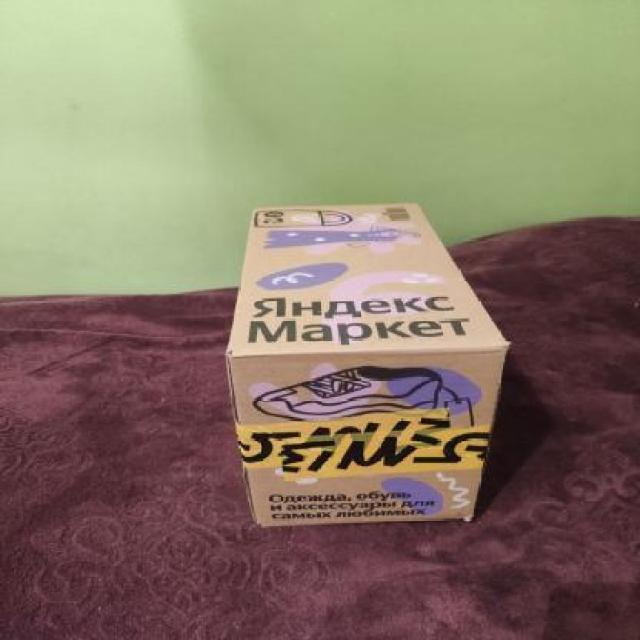box: (223, 196, 509, 532)
